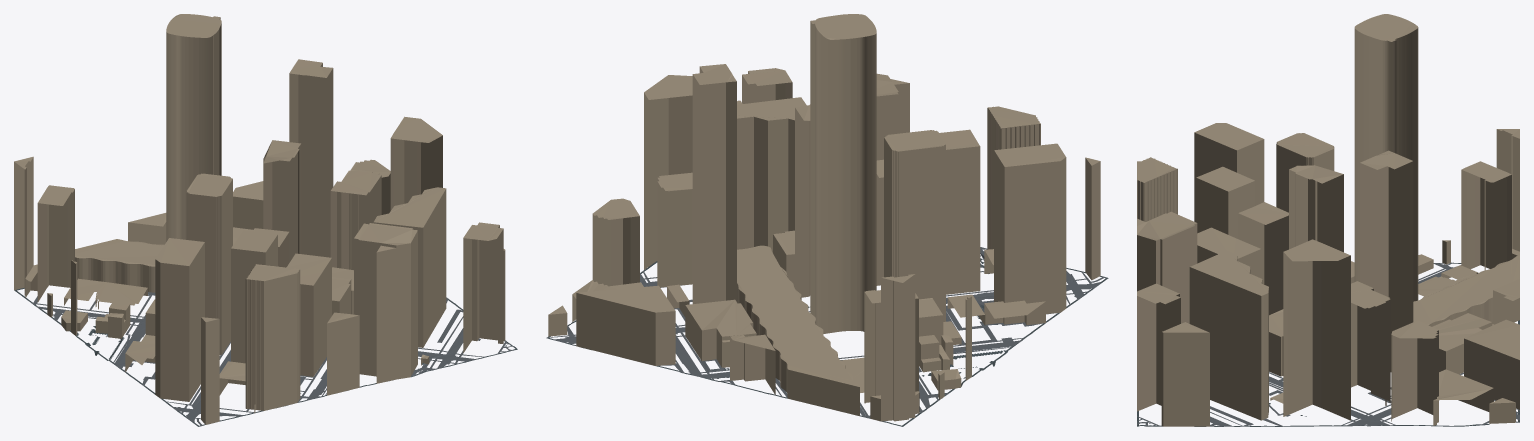
Rendered from epsg26910-1440-10892.lod1-adaptive.glb.
The picture shows the model from 3 angles, left to right: view 1: azimuth 30°, elevation 25°; view 2: azimuth 150°, elevation 25°; view 3: azimuth 270°, elevation 25°; orthographic projection. The views are drawn at different scales.
Parts seen in each view (by area): view 1: epsg26910-1440-10892-lod1-adaptive; view 2: epsg26910-1440-10892-lod1-adaptive; view 3: epsg26910-1440-10892-lod1-adaptive.
Boxes of the visible parts, x1,y1,x2,y2 form: epsg26910-1440-10892-lod1-adaptive: (14, 14, 517, 426); epsg26910-1440-10892-lod1-adaptive: (546, 14, 1108, 426); epsg26910-1440-10892-lod1-adaptive: (1137, 14, 1519, 426).
Bounding box in the file's own units: 384 × 333 × 384.
